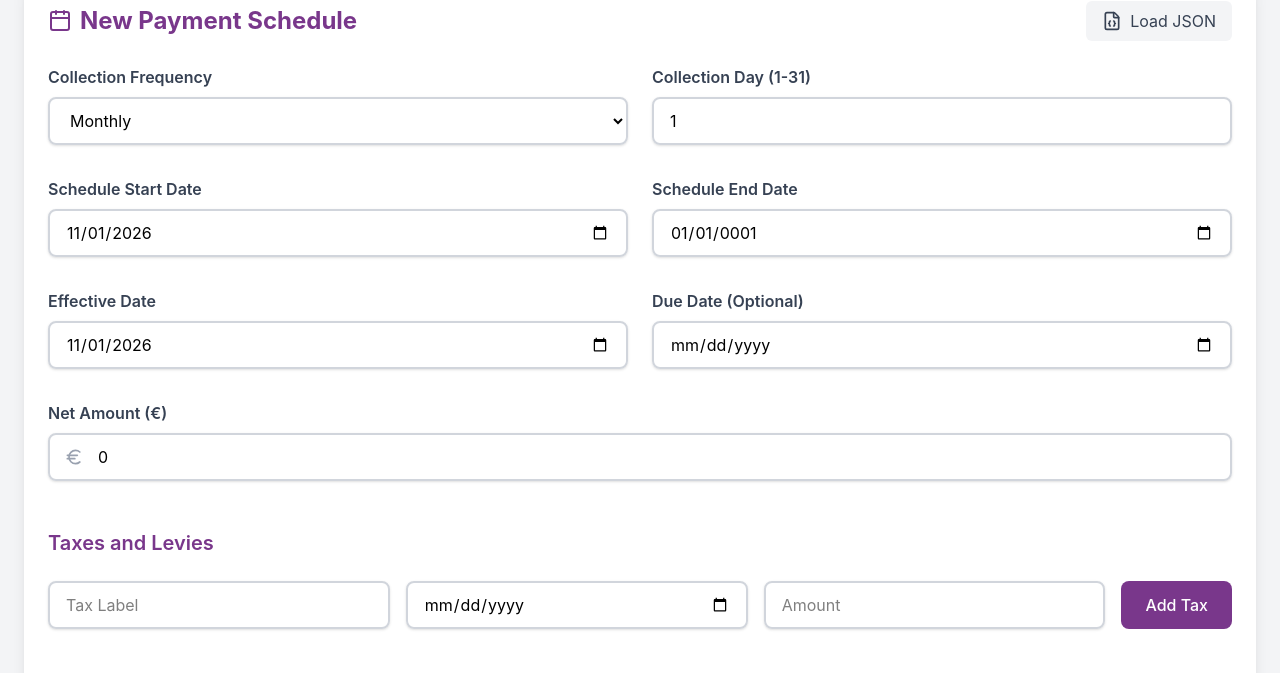
NewSchedule › renders the returned schedule on a successful submit
Replace the text in the number field showing "0" with "250": [640, 457] box left=48, top=433, right=1232, bottom=481
(page scrolled)
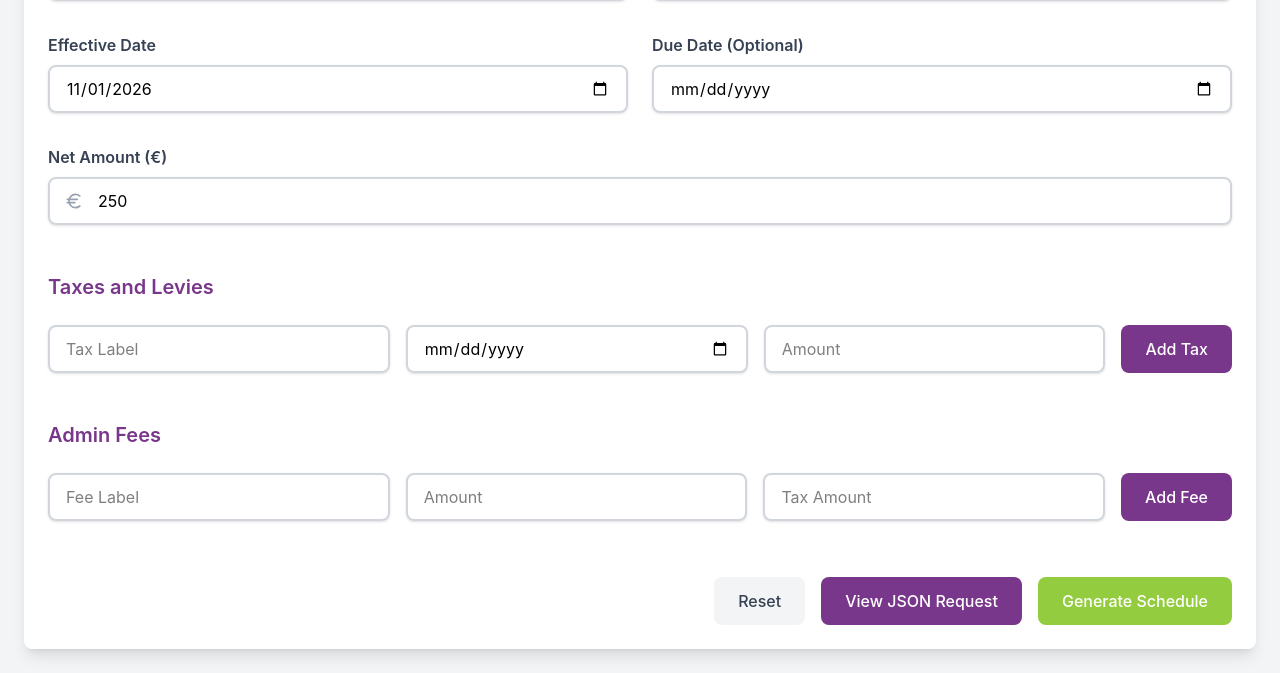
Click the button "Generate Schedule": [1135, 601] box left=1038, top=577, right=1232, bottom=625
(page scrolled)
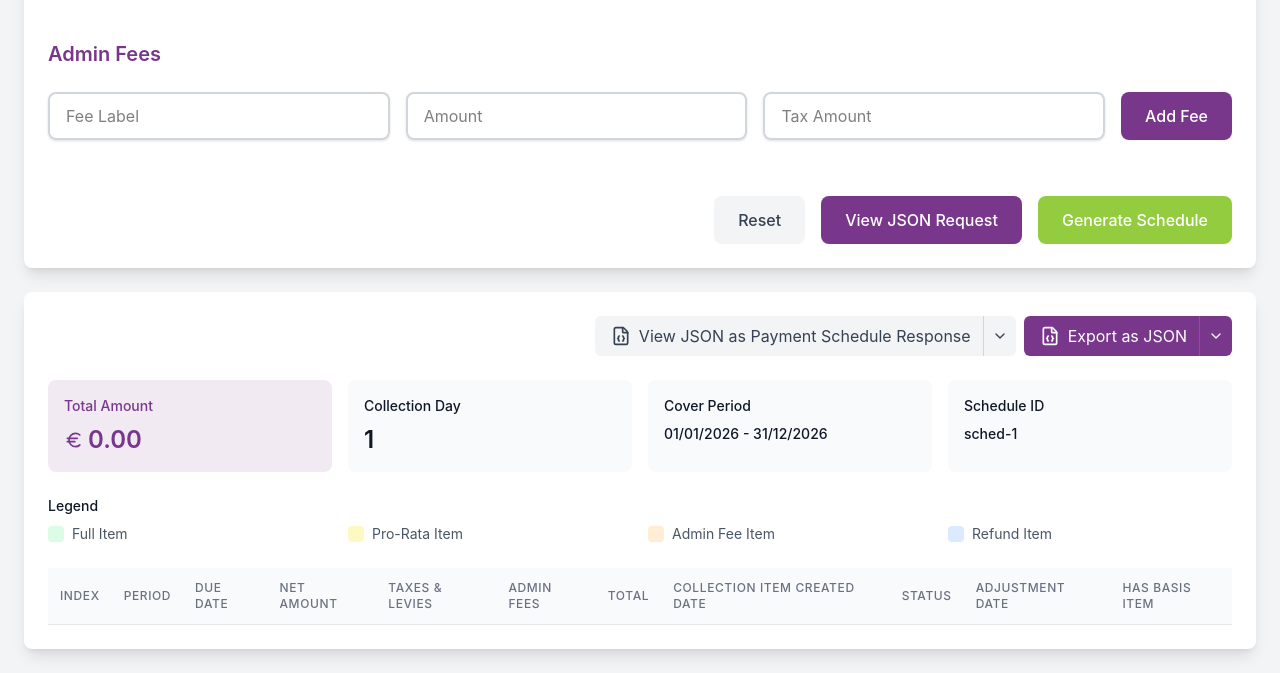
expect the text "sched-1" is shown: met, box left=964, top=425, right=1017, bottom=442
